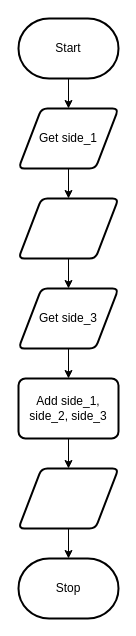
This 136x636 diagram has some shape labels left out. The centre of each missing label's shape, as x and y in pixels:
Get side_2: the point at 68,228
Print the perimeter of the triangle.: the point at 68,498
